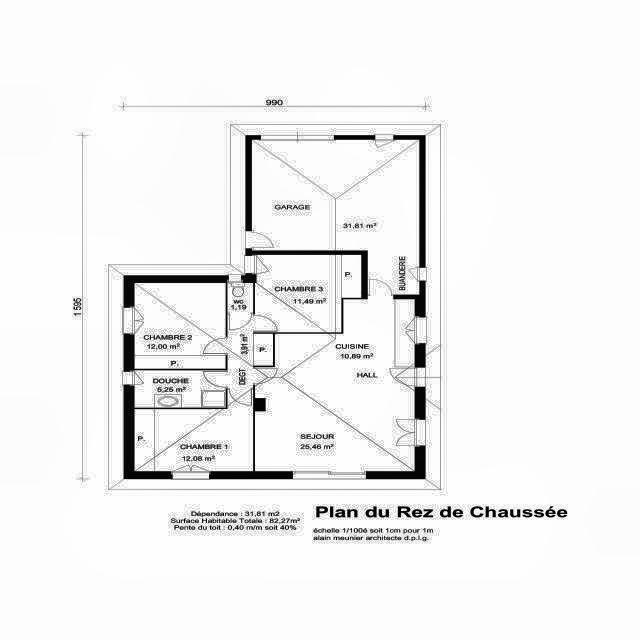room: (255, 296, 415, 471), (252, 140, 420, 295), (135, 389, 253, 471), (254, 255, 361, 333), (136, 283, 225, 369), (135, 370, 226, 407), (228, 314, 253, 389), (227, 283, 253, 313), (254, 334, 273, 366)
